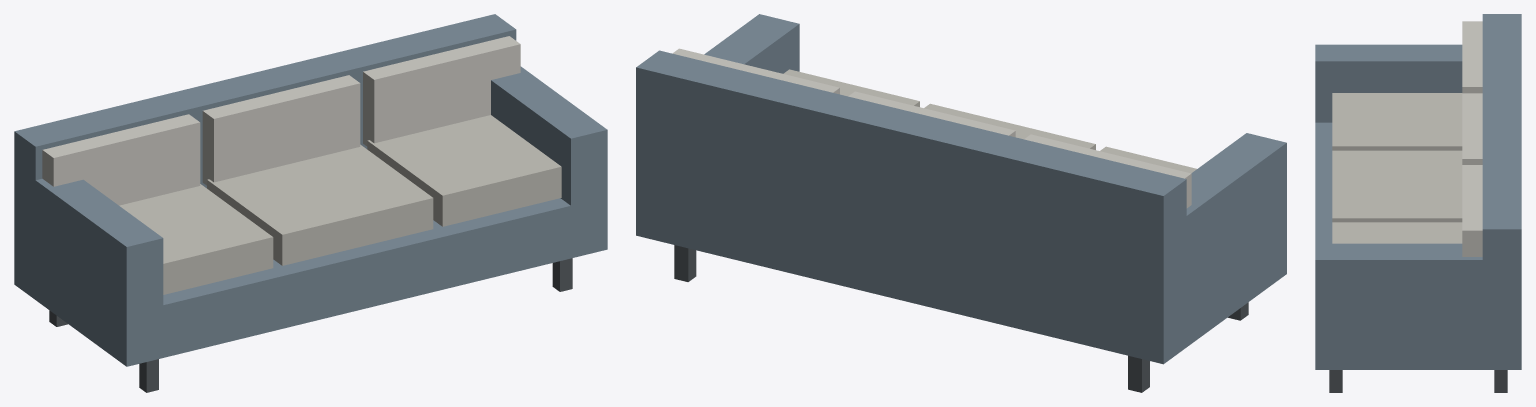
The model's file is sofa.glb.
3 views of the same model, side by side, from view 1: azimuth 30°, elevation 25°; view 2: azimuth 150°, elevation 25°; view 3: azimuth 270°, elevation 25° (orthographic). The views are drawn at different scales.
Parts seen in each view (by area): view 1: sofa_base, sofa_seat_0, sofa_arm_0, sofa_back, sofa_seat_1, sofa_cushion_0, sofa_cushion_1, sofa_cushion_-1, sofa_seat_-1, sofa_arm_1, sofa_leg_1_1, sofa_leg_0_1; view 2: sofa_back, sofa_base, sofa_arm_0, sofa_arm_1, sofa_cushion_-1, sofa_cushion_0, sofa_cushion_1, sofa_seat_0, sofa_seat_1, sofa_leg_1_0, sofa_leg_0_0, sofa_seat_-1; view 3: sofa_arm_1, sofa_back, sofa_base, sofa_seat_0, sofa_arm_0, sofa_seat_-1, sofa_seat_1, sofa_cushion_1, sofa_cushion_-1, sofa_cushion_0, sofa_leg_1_0, sofa_leg_1_1.
Part boxes in pixels (x1=…): sofa_base: x1=14, y1=197, x2=607, y2=366; sofa_seat_0: x1=207, y1=144, x2=433, y2=265; sofa_arm_0: x1=14, y1=174, x2=163, y2=342; sofa_back: x1=14, y1=14, x2=516, y2=261; sofa_seat_1: x1=367, y1=115, x2=561, y2=226; sofa_cushion_0: x1=202, y1=75, x2=360, y2=185; sofa_cushion_1: x1=363, y1=36, x2=520, y2=146; sofa_cushion_-1: x1=42, y1=114, x2=200, y2=205; sofa_seat_-1: x1=119, y1=184, x2=273, y2=294; sofa_arm_1: x1=491, y1=66, x2=607, y2=234; sofa_leg_1_1: x1=552, y1=258, x2=572, y2=291; sofa_leg_0_1: x1=139, y1=359, x2=158, y2=392; sofa_back: x1=636, y1=50, x2=1186, y2=321; sofa_base: x1=636, y1=178, x2=1286, y2=364; sofa_arm_0: x1=1123, y1=133, x2=1286, y2=336; sofa_arm_1: x1=636, y1=14, x2=799, y2=218; sofa_cushion_-1: x1=1024, y1=134, x2=1191, y2=208; sofa_cushion_0: x1=848, y1=91, x2=1015, y2=137; sofa_cushion_1: x1=672, y1=48, x2=839, y2=94; sofa_seat_0: x1=924, y1=103, x2=1095, y2=149; sofa_seat_1: x1=783, y1=69, x2=919, y2=106; sofa_leg_1_0: x1=674, y1=245, x2=696, y2=281; sofa_leg_0_0: x1=1128, y1=355, x2=1149, y2=392; sofa_seat_-1: x1=1100, y1=146, x2=1196, y2=173; sofa_arm_1: x1=1315, y1=243, x2=1521, y2=347; sofa_back: x1=1482, y1=14, x2=1521, y2=334; sofa_base: x1=1315, y1=122, x2=1521, y2=369; sofa_seat_0: x1=1332, y1=150, x2=1462, y2=222; sofa_arm_0: x1=1315, y1=44, x2=1462, y2=122; sofa_seat_-1: x1=1332, y1=93, x2=1462, y2=150; sofa_seat_1: x1=1332, y1=222, x2=1462, y2=243; sofa_cushion_1: x1=1462, y1=165, x2=1482, y2=256; sofa_cushion_-1: x1=1462, y1=21, x2=1482, y2=93; sofa_cushion_0: x1=1462, y1=93, x2=1482, y2=164; sofa_leg_1_0: x1=1494, y1=370, x2=1507, y2=392; sofa_leg_1_1: x1=1329, y1=370, x2=1342, y2=392.
Size of the model in its own units: 2.1 by 0.8 by 0.85.
